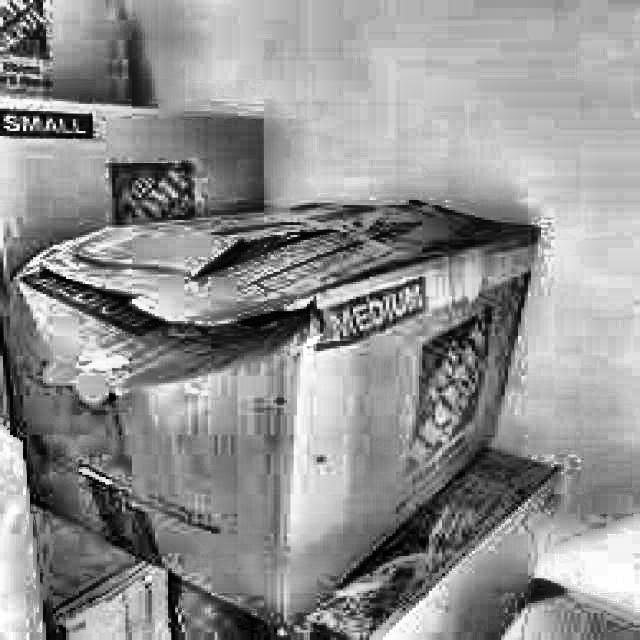box: (0, 215, 592, 621)
hole: (235, 298, 327, 352)
